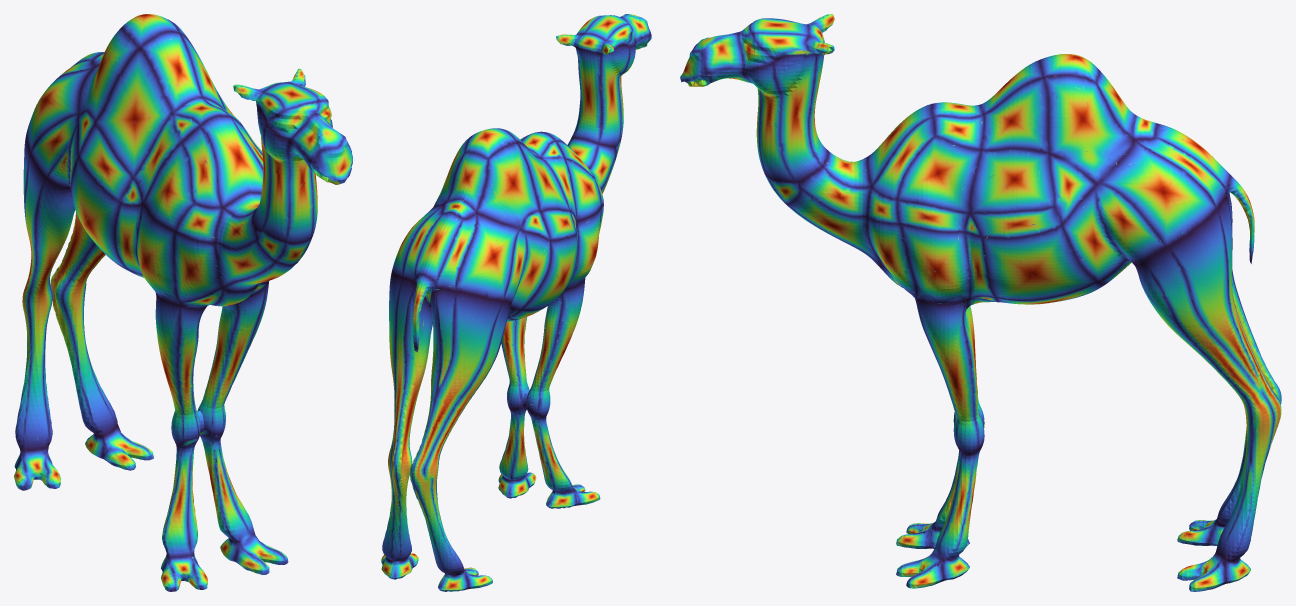
Rendered from gen2.glb.
3 renders of one model, left to right at view 1: azimuth 30°, elevation 25°; view 2: azimuth 150°, elevation 25°; view 3: azimuth 270°, elevation 25°, orthographic. The views are drawn at different scales.
Parts seen in each view (by area): view 1: Node; view 2: Node; view 3: Node.
Part boxes in pixels (x1,y1,x2,y2): Node: (14, 14, 352, 591); Node: (381, 14, 651, 591); Node: (680, 14, 1281, 591).
Size of the model in its own units: 0.4329 by 1.39 by 1.41.
1 material, 1 textured.
